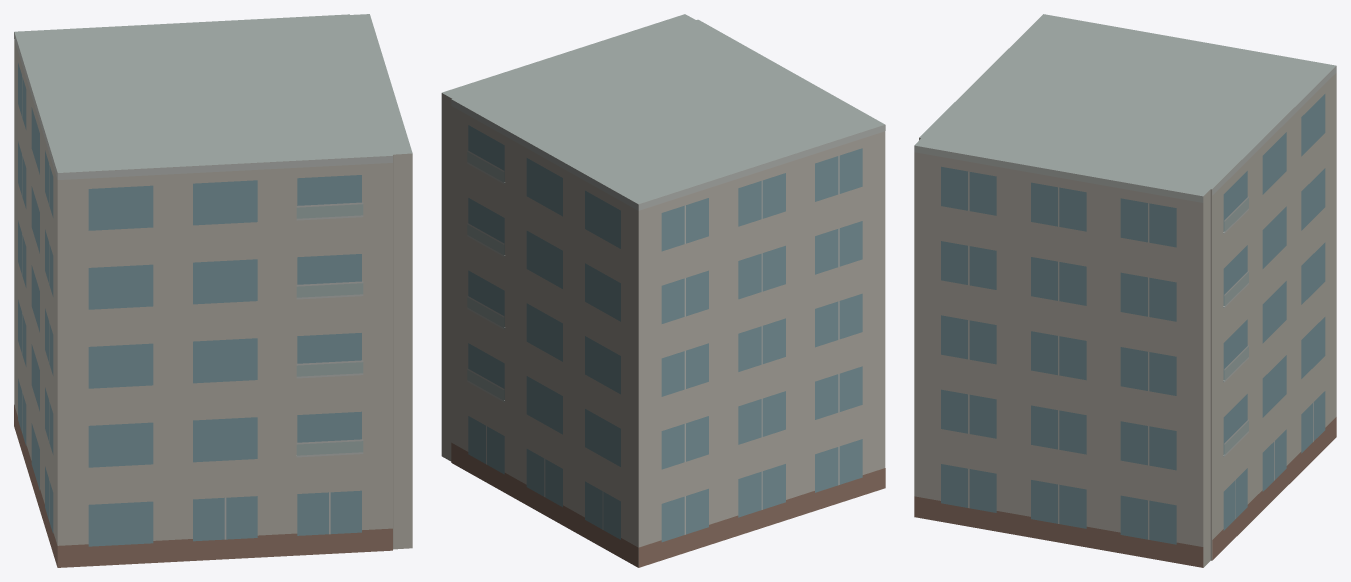
Rendered from survey-upis-32526371.glb.
3 views of the same model, side by side, from view 1: azimuth 30°, elevation 25°; view 2: azimuth 150°, elevation 25°; view 3: azimuth 270°, elevation 25° (orthographic). The views are drawn at different scales.
Parts seen in each view (by area): view 1: survey-upis-32526371.tmp; view 2: survey-upis-32526371.tmp; view 3: survey-upis-32526371.tmp.
Boxes of the visible parts, x1,y1,x2,y2 form: survey-upis-32526371.tmp: [14, 14, 412, 567]; survey-upis-32526371.tmp: [441, 14, 885, 567]; survey-upis-32526371.tmp: [914, 14, 1336, 567].
Size of the model in its own units: 14.33 by 13.6 by 14.02.
